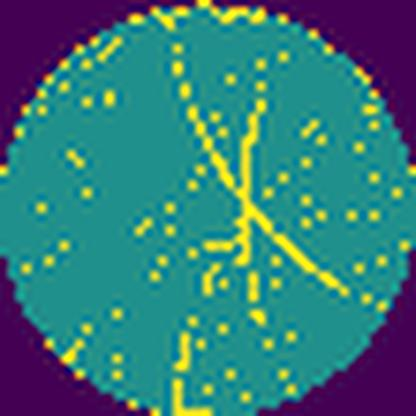Scratch: (158, 33, 375, 416)
